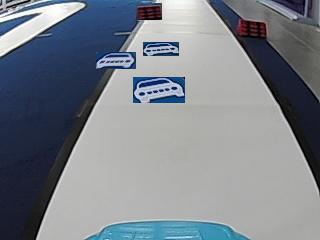bomb: (236, 19, 268, 37)
